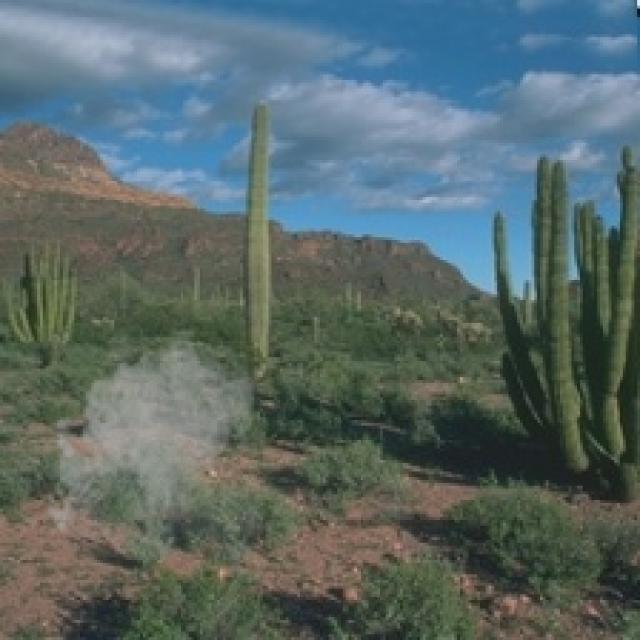smoke: (40, 329, 263, 560)
